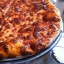pizza: (1, 1, 61, 59)
